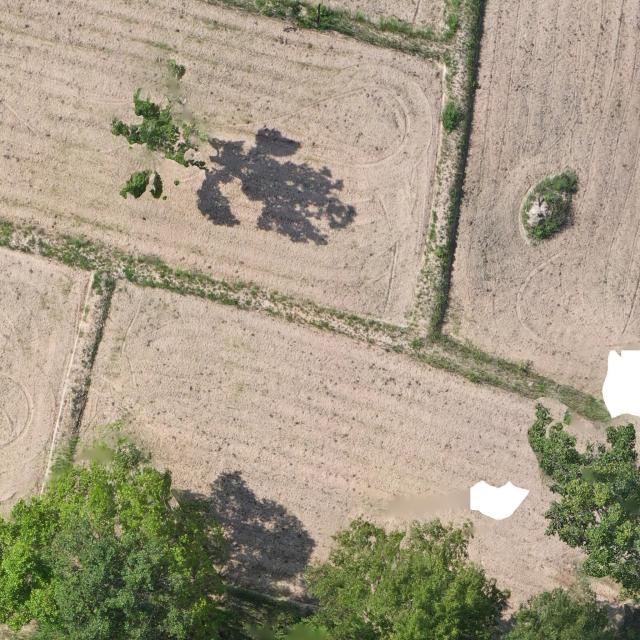Tree: (0, 434, 231, 640), (241, 513, 497, 640), (526, 402, 640, 576), (112, 61, 206, 203)
